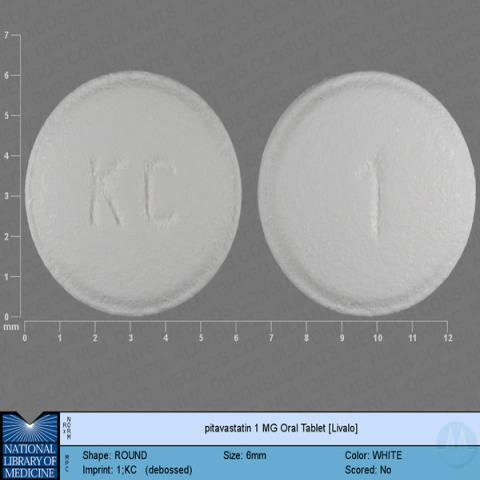Pill: (15, 48, 253, 350), (258, 49, 480, 353)
